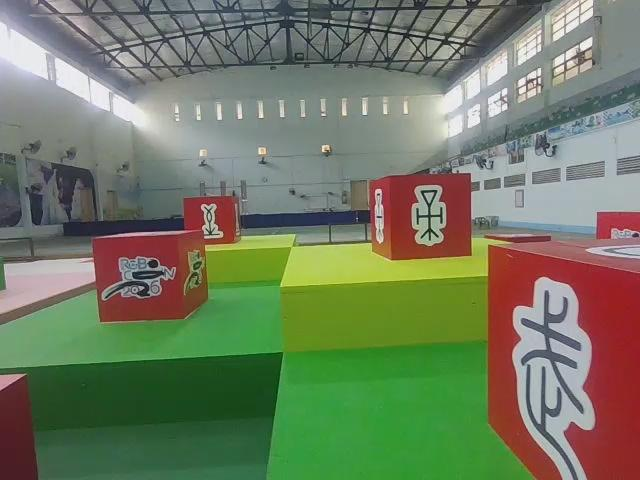R1: (85, 226, 211, 323)
R2 Fake: (484, 235, 640, 480)
R2 Real: (365, 171, 474, 262), (180, 192, 243, 248)
